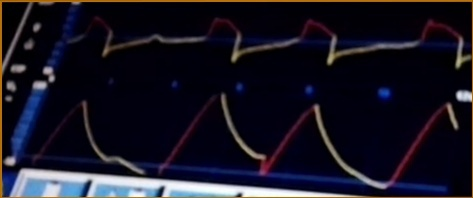Ineffective_effort Flow: (70, 13, 472, 70)
Ineffective_effort Volume: (34, 93, 457, 187)
